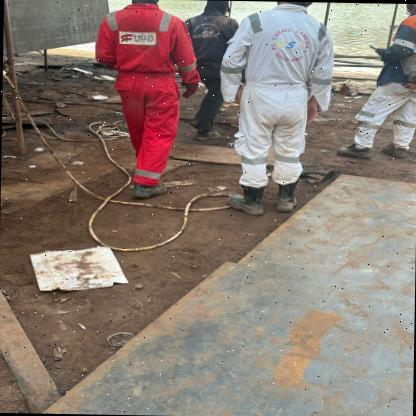bota: (222, 182, 268, 217), (274, 180, 302, 212), (336, 142, 374, 160), (132, 180, 168, 198), (380, 142, 408, 158), (194, 127, 222, 141)
